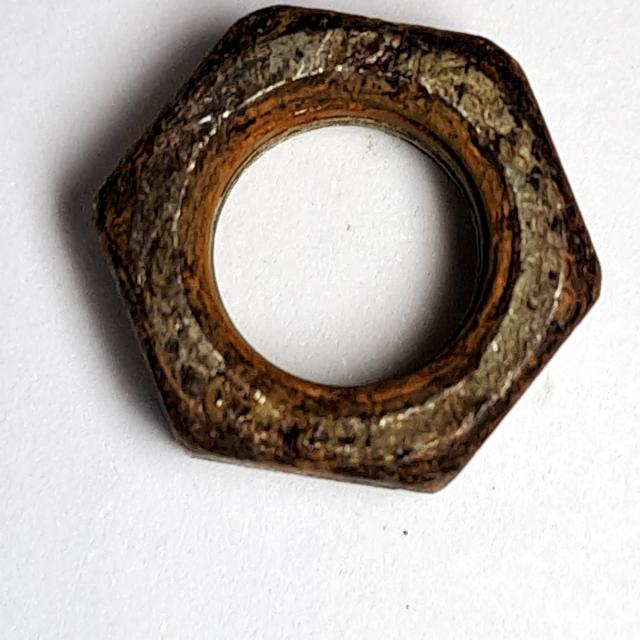Rust: (74, 1, 614, 506)
